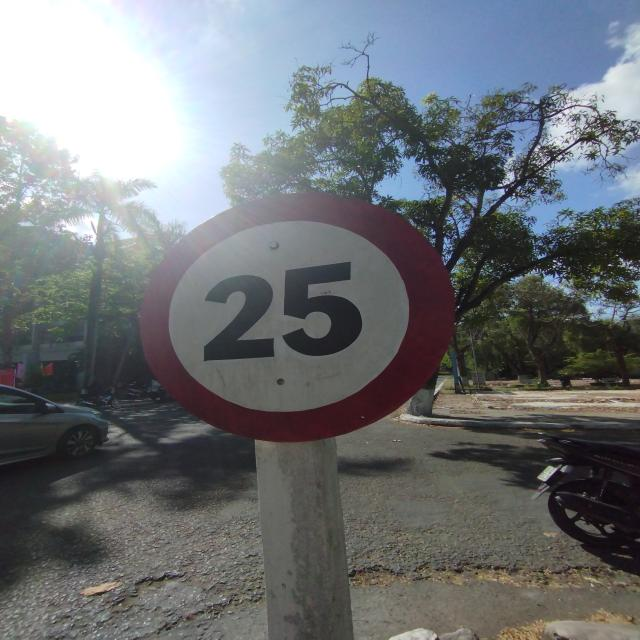Tre_Em: (136, 189, 461, 445)
